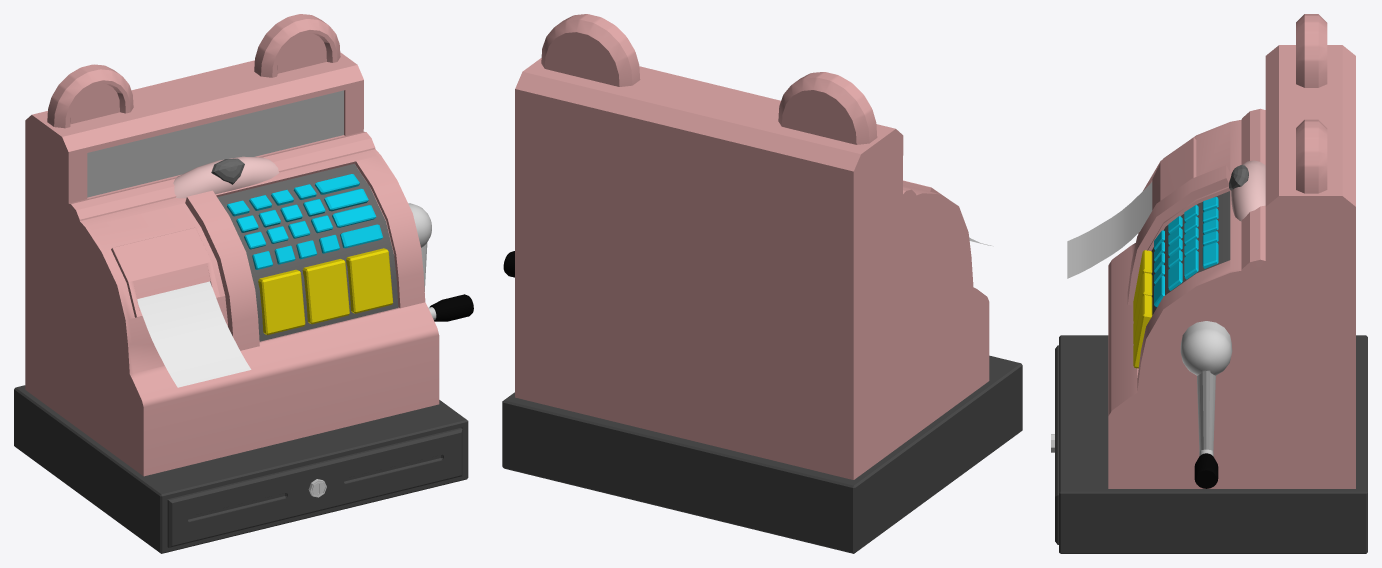
Rendered from cash_register.fbx.
The picture shows the model from 3 angles, left to right: view 1: azimuth 30°, elevation 25°; view 2: azimuth 150°, elevation 25°; view 3: azimuth 270°, elevation 25°; orthographic projection. The views are drawn at different scales.
Visible parts, largest first — view 1: pasted__board, pasted__paper, button3, button2, button1, lever; view 2: pasted__board; view 3: pasted__board, lever, pasted__paper, button3, button1, button2.
Part boxes in pixels (left/top/right/bottom): pasted__board: left=14, top=14, right=468, bottom=553; pasted__paper: left=137, top=281, right=251, bottom=387; button3: left=346, top=248, right=393, bottom=313; button2: left=302, top=259, right=349, bottom=324; button1: left=258, top=269, right=305, bottom=335; lever: left=408, top=203, right=473, bottom=321; pasted__board: left=502, top=14, right=1022, bottom=553; pasted__board: left=1051, top=14, right=1367, bottom=553; lever: left=1180, top=321, right=1232, bottom=488; pasted__paper: left=1067, top=182, right=1152, bottom=278; button3: left=1133, top=295, right=1152, bottom=368; button1: left=1133, top=250, right=1152, bottom=321; button2: left=1133, top=273, right=1152, bottom=343.
Size of the model in its own units: 6.75 by 6.57 by 4.67.
